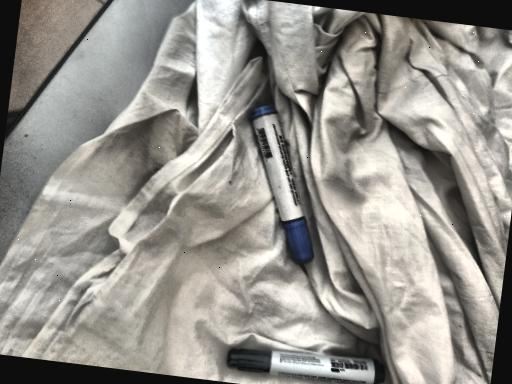marcador azul: (252, 105, 313, 263)
marcador negro: (226, 348, 385, 384)
